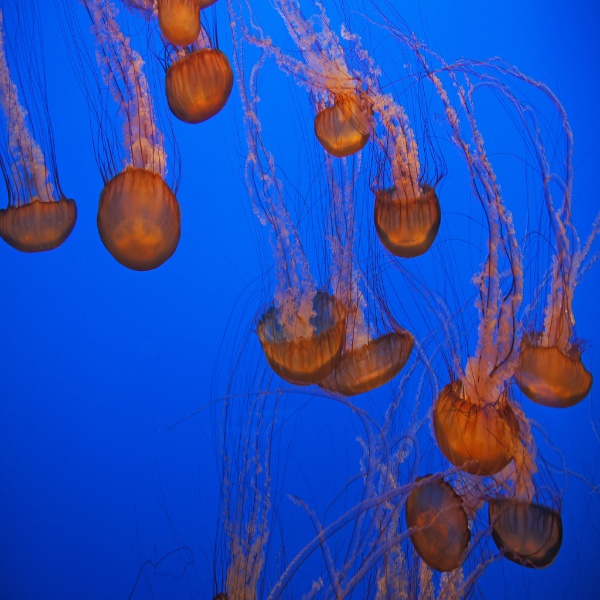Jellyfish: (50, 0, 599, 599), (50, 0, 181, 271), (0, 0, 80, 258), (91, 152, 179, 269), (159, 28, 237, 122), (126, 0, 216, 46)
